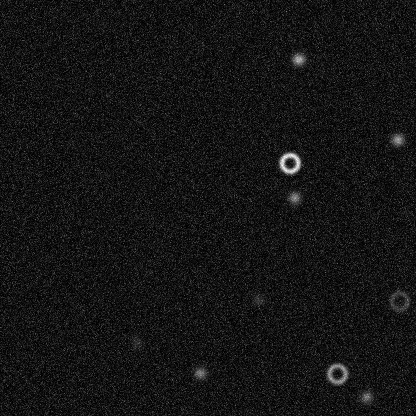Ring: (277, 150, 301, 174), (387, 288, 411, 312), (325, 361, 349, 385)
Spot: (192, 365, 208, 381), (358, 388, 374, 404), (250, 291, 266, 307), (389, 131, 405, 147), (290, 51, 306, 67), (286, 189, 302, 205), (128, 334, 144, 350)
